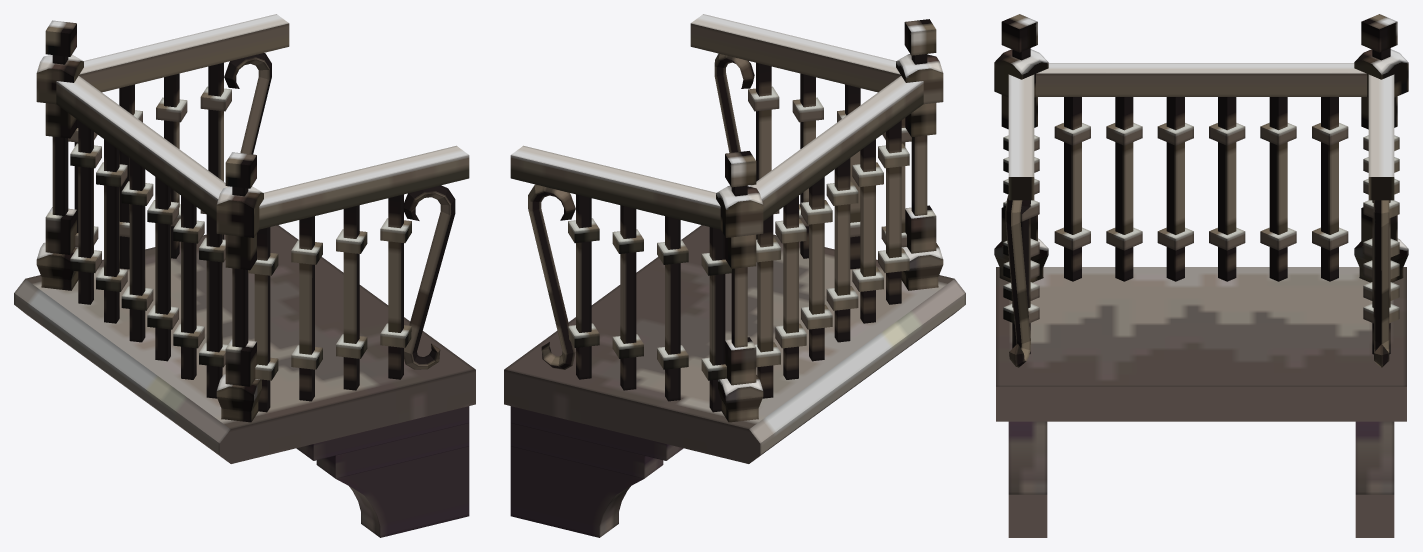
The model's file is EnvBdgMD_City_A_Outdoor_Balcony.FBX.
3 renders of one model, left to right at view 1: azimuth 30°, elevation 25°; view 2: azimuth 150°, elevation 25°; view 3: azimuth 270°, elevation 25°, orthographic.
Visible parts, largest first — view 1: EnvBdgMD_City_A_Outdoor_Balcony; view 2: EnvBdgMD_City_A_Outdoor_Balcony; view 3: EnvBdgMD_City_A_Outdoor_Balcony.
Part boxes in pixels (bbox=[...]): EnvBdgMD_City_A_Outdoor_Balcony: bbox=[14, 14, 475, 537]; EnvBdgMD_City_A_Outdoor_Balcony: bbox=[504, 14, 965, 537]; EnvBdgMD_City_A_Outdoor_Balcony: bbox=[994, 14, 1408, 537].
Size of the model in its own units: 115 by 161 by 175.
Materials: 1 (1 with a texture image).
